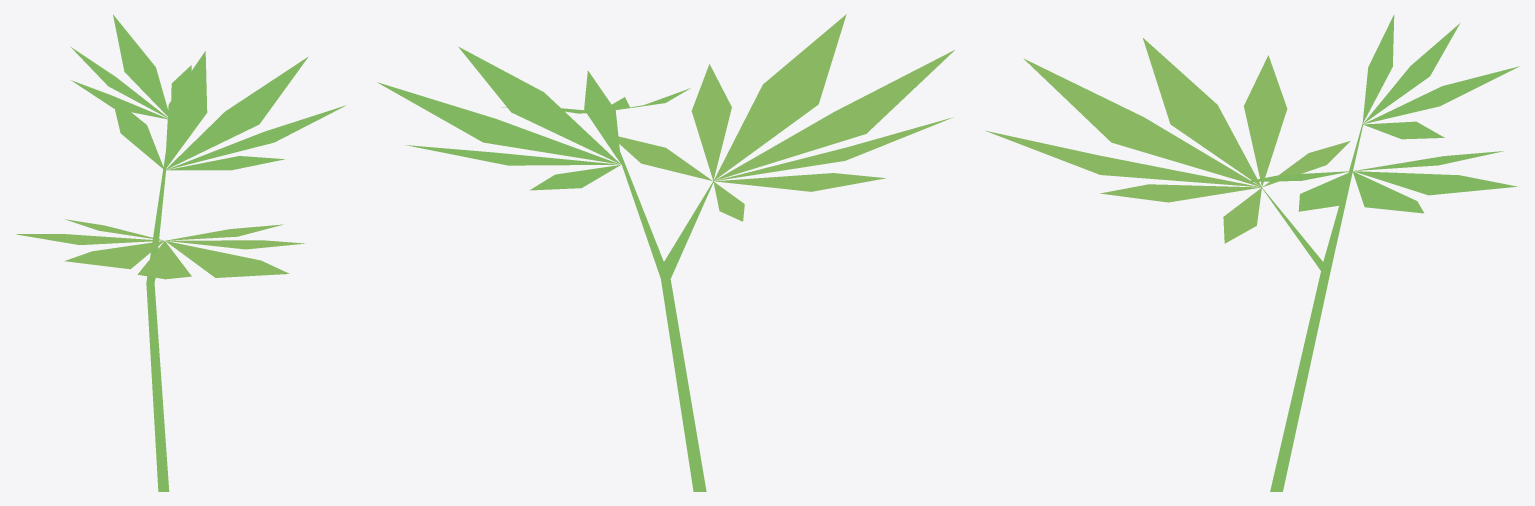
Rendered from Plant_i_OneS_01.fbx.
The picture shows the model from 3 angles, left to right: view 1: azimuth 30°, elevation 25°; view 2: azimuth 150°, elevation 25°; view 3: azimuth 270°, elevation 25°; orthographic projection. The views are drawn at different scales.
Visible parts, largest first — view 1: Plant_i_OneS_01; view 2: Plant_i_OneS_01; view 3: Plant_i_OneS_01.
Boxes of the visible parts, left/top/right/bottom form: Plant_i_OneS_01: left=16, top=14, right=346, bottom=491; Plant_i_OneS_01: left=377, top=14, right=954, bottom=491; Plant_i_OneS_01: left=985, top=14, right=1519, bottom=491.
Size of the model in its own units: 0.7392 by 0.7562 by 0.8019.
